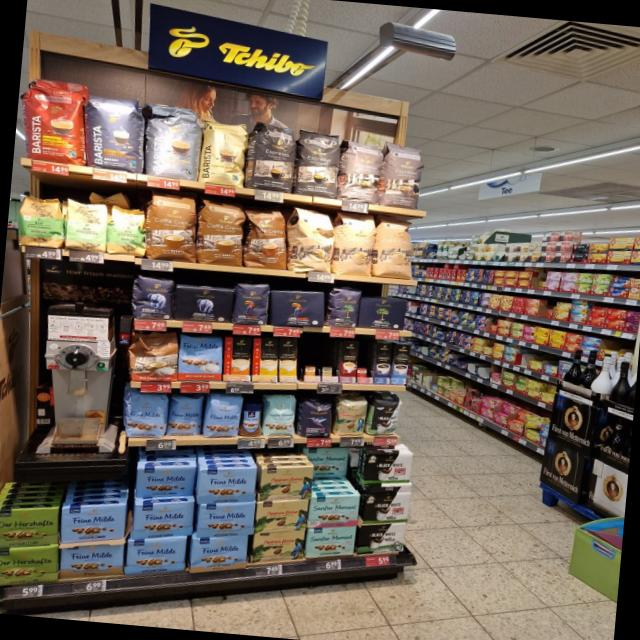AB Bohne: (128, 274, 176, 322)
AB Gemahlen: (173, 284, 234, 324)
Athiopien Bohne: (14, 188, 66, 250), (107, 202, 148, 255)
Athiopien Gemahlen: (60, 198, 109, 252)
BM Bohne: (326, 284, 361, 328)
BM Gemahlen: (358, 295, 408, 331)
BW Bohne: (366, 396, 404, 438)
BW Gemahlen: (363, 451, 415, 484), (360, 491, 411, 524), (356, 522, 407, 554)
Barista CB: (197, 116, 250, 188)
Barista CC: (143, 110, 204, 180)
Barista Espresso: (84, 91, 148, 173)
Barista Kolumbien: (18, 82, 90, 164)
C Fino Bohne: (298, 396, 334, 439)
CC Mild: (286, 205, 336, 274), (332, 210, 378, 276), (372, 215, 418, 280)
CC Vollmundig 36 Pads: (144, 190, 201, 263), (194, 197, 248, 266), (242, 206, 290, 270), (124, 331, 180, 384)
Colombia BB Bohne: (332, 397, 368, 438)
Colombia BB Gemahlen: (259, 465, 315, 502), (255, 499, 309, 534), (251, 529, 306, 563)
Espresso Aromatisch: (378, 139, 426, 210), (337, 135, 385, 203)
Espresso S Art: (293, 124, 344, 199), (250, 119, 298, 192)
FM 36 Pads: (176, 333, 225, 382)
FM Bohne: (123, 391, 168, 439), (204, 393, 242, 440), (167, 393, 204, 438)
FM Gemahlen: (60, 503, 126, 543), (131, 500, 195, 541), (124, 536, 187, 575), (60, 542, 124, 579), (189, 535, 249, 572), (197, 466, 257, 503), (198, 502, 257, 538), (136, 465, 197, 499)
FM Instant: (240, 402, 264, 438)
Herzhatfe Mundig: (0, 544, 60, 588), (0, 506, 60, 548)
LG Bohne: (232, 279, 271, 327)
LG Gemahlen: (266, 290, 326, 330)
SM Bohne: (260, 393, 298, 440)
SM Gemahlen: (307, 494, 362, 528), (305, 525, 357, 559)
Simo CCMild: (252, 338, 278, 381)
Simo CCVollmundig: (223, 337, 251, 380)
Simo Es Caramel: (339, 341, 359, 383)
Simo Es Kraft: (374, 343, 394, 384)
Simo Es Vanilla: (391, 343, 412, 384)
